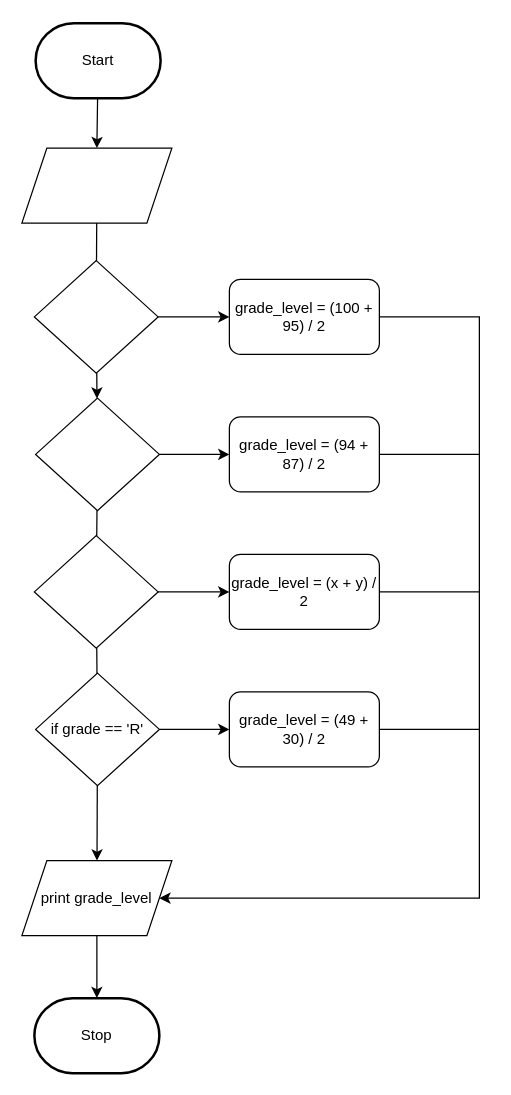
This 511x1095 diagram has some shape labels left out. Each missing label, with the centre of its shape:
Get grade: point (96, 185)
if grade == '...': point (95, 591)
if grade == '4': point (96, 454)
if grade == '4+': point (95, 316)
